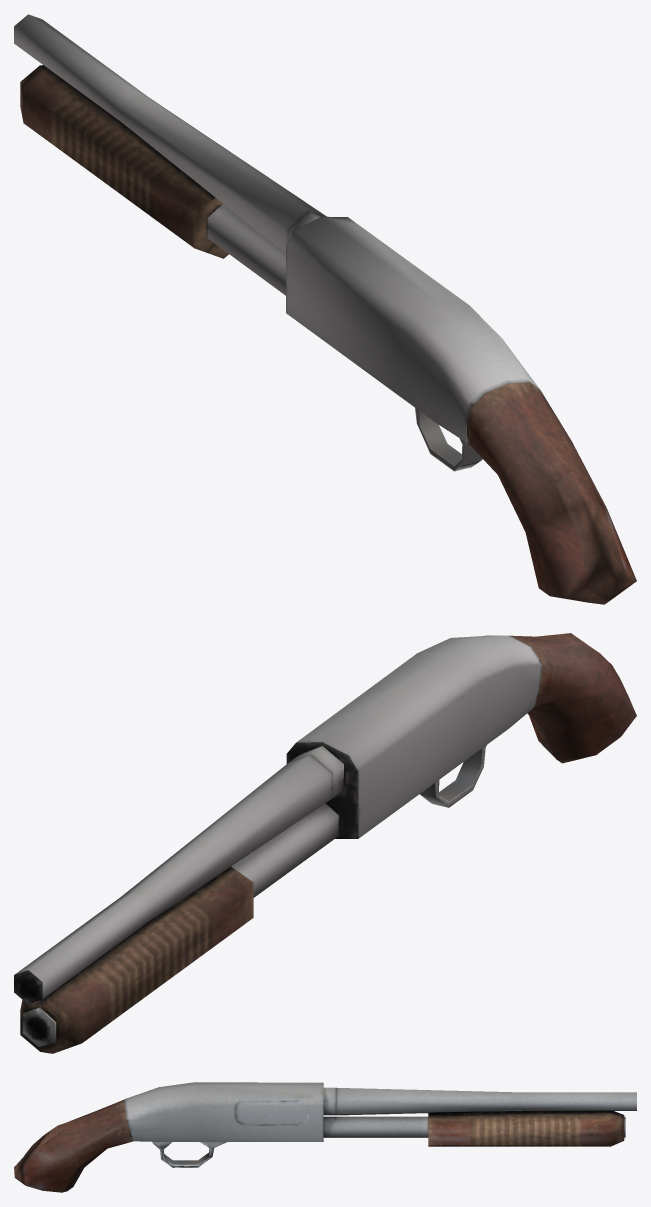
Rendered from Remington_Wood_Sawed.fbx.
3 views of the same model, one above another, from view 1: azimuth 30°, elevation 25°; view 2: azimuth 150°, elevation 25°; view 3: azimuth 270°, elevation 25° (orthographic). The views are drawn at different scales.
Parts seen in each view (by area): view 1: Remington_Wood_Sawed; view 2: Remington_Wood_Sawed; view 3: Remington_Wood_Sawed.
Part boxes in pixels (bbox=[...]): Remington_Wood_Sawed: bbox=[14, 14, 636, 604]; Remington_Wood_Sawed: bbox=[14, 633, 636, 1053]; Remington_Wood_Sawed: bbox=[14, 1082, 636, 1192].
Bounding box in the file's own units: 0.0278 × 0.3886 × 0.0728.
